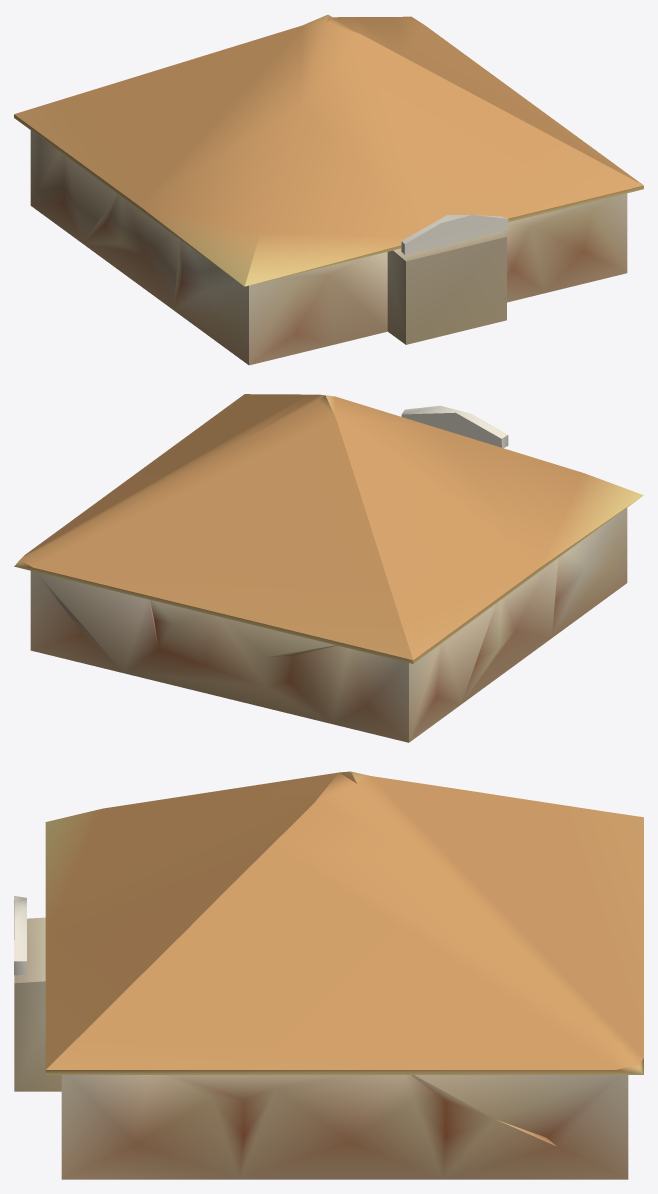
The model's file is nha_mai_ngoi_cam.far.glb.
3 views of the same model, one above another, from view 1: azimuth 30°, elevation 25°; view 2: azimuth 150°, elevation 25°; view 3: azimuth 270°, elevation 25° (orthographic). The views are drawn at different scales.
Parts seen in each view (by area): view 1: nha_mai_ngoi_cam; view 2: nha_mai_ngoi_cam; view 3: nha_mai_ngoi_cam.
Part boxes in pixels (<box>): nha_mai_ngoi_cam: <box>14,14,643,365</box>; nha_mai_ngoi_cam: <box>14,394,643,742</box>; nha_mai_ngoi_cam: <box>14,771,643,1179</box>.
Bounding box in the file's own units: 19 × 10.13 × 20.01.
